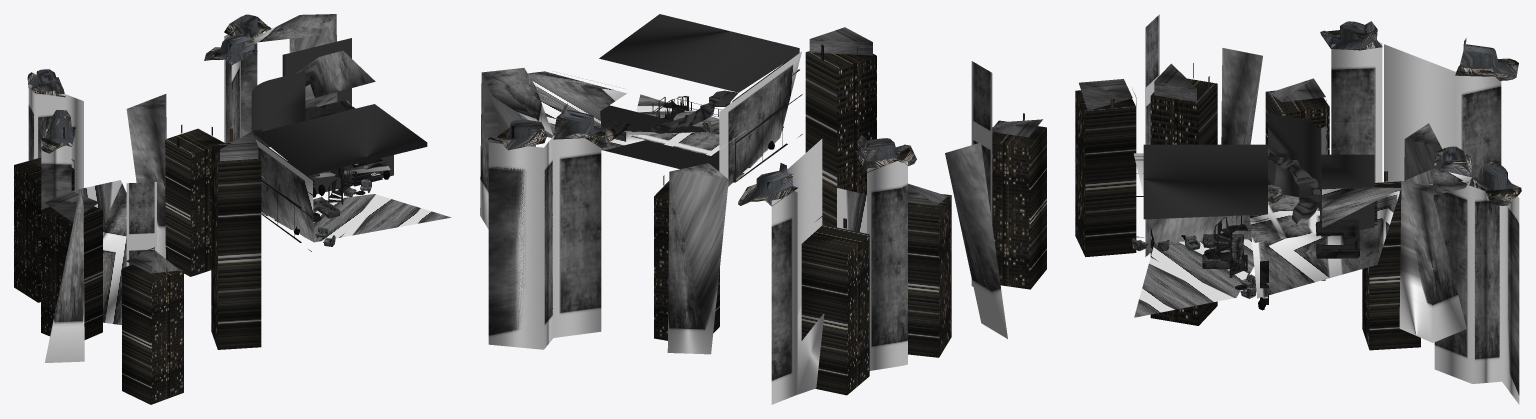
File: city_loft.glb
The picture shows the model from 3 angles, left to right: view 1: azimuth 30°, elevation 25°; view 2: azimuth 150°, elevation 25°; view 3: azimuth 270°, elevation 25°; orthographic projection. The views are drawn at different scales.
Visible parts, largest first — view 1: body; view 2: body; view 3: body.
Part boxes in pixels (bbox=[...]): body: bbox=[14, 14, 451, 404]; body: bbox=[480, 14, 1046, 404]; body: bbox=[1075, 14, 1521, 404].
Bounding box in the file's own units: 18 × 9.32 × 15.7.
Materials: 12 (8 with a texture image).
